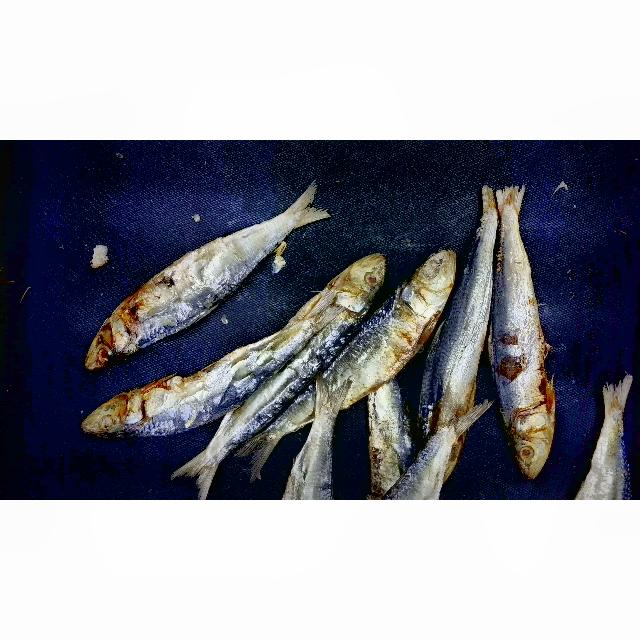Grade_B_Body: (118, 245, 261, 335), (249, 297, 356, 415), (318, 300, 426, 410), (426, 251, 492, 420), (147, 343, 258, 441), (493, 266, 564, 407)
Grade_B_Head: (496, 413, 561, 486), (321, 247, 396, 308), (69, 313, 134, 376), (402, 242, 459, 313), (69, 398, 138, 445)
Grade_B_Tail: (396, 393, 485, 500), (281, 368, 349, 500), (177, 390, 254, 495), (242, 180, 345, 255), (585, 360, 638, 500), (495, 180, 553, 282), (453, 181, 500, 295)
